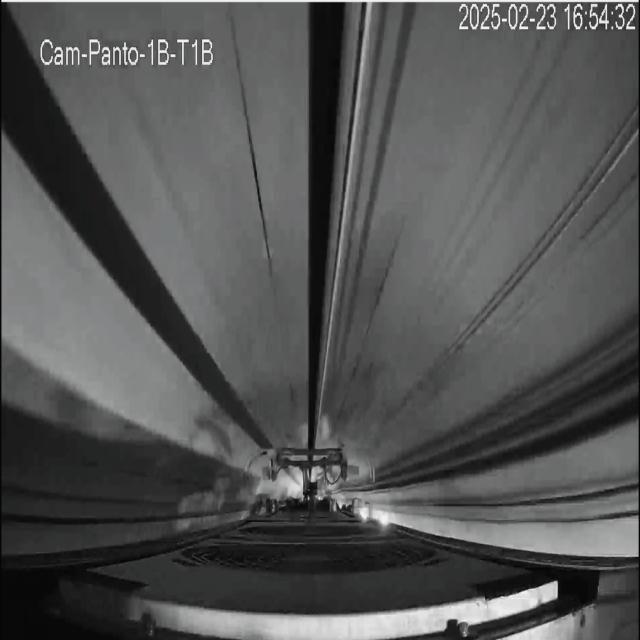Camera Stamp: (39, 33, 219, 68)
Date Stamp: (459, 3, 636, 33)
No - Spark: (248, 441, 373, 518)
